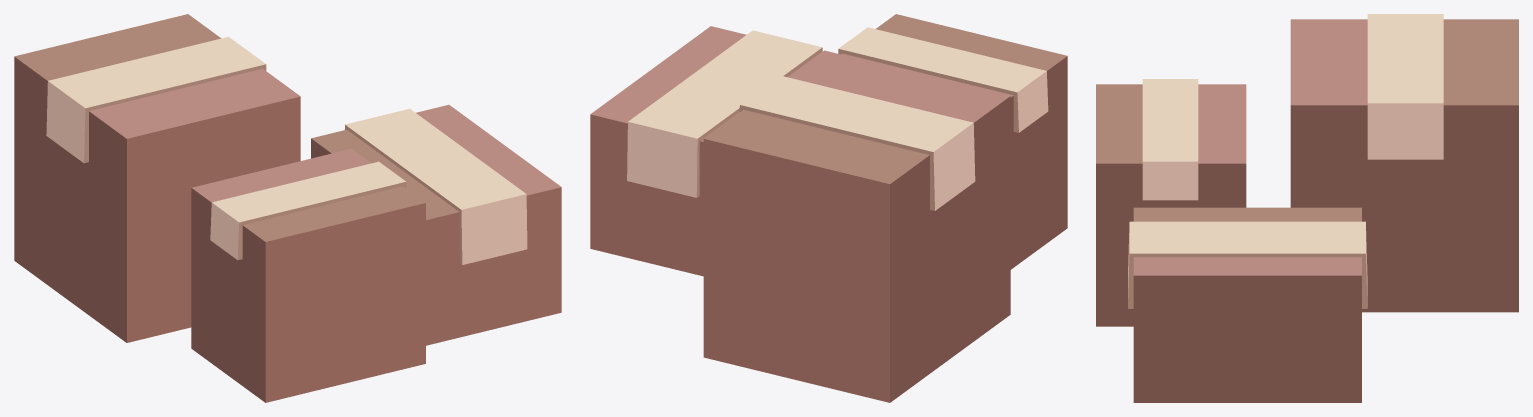
Rendered from office-boxes-1.glb.
3 views of the same model, side by side, from view 1: azimuth 30°, elevation 25°; view 2: azimuth 150°, elevation 25°; view 3: azimuth 270°, elevation 25° (orthographic). The views are drawn at different scales.
Visible parts, largest first — view 1: Cube.003, Cube.005, Cube.004; view 2: Cube.003, Cube.004, Cube.005; view 3: Cube.003, Cube.004, Cube.005.
Part boxes in pixels (<box>): Cube.003: <box>14,14,300,342</box>; Cube.005: <box>191,148,425,402</box>; Cube.004: <box>311,104,561,345</box>; Cube.003: <box>703,50,1010,402</box>; Cube.004: <box>590,26,822,276</box>; Cube.005: <box>838,14,1067,269</box>; Cube.003: <box>1290,14,1518,312</box>; Cube.004: <box>1128,207,1367,402</box>; Cube.005: <box>1096,79,1246,326</box>.
Size of the model in its own units: 1.65 by 0.9057 by 1.65.
3 materials, 3 textured.
